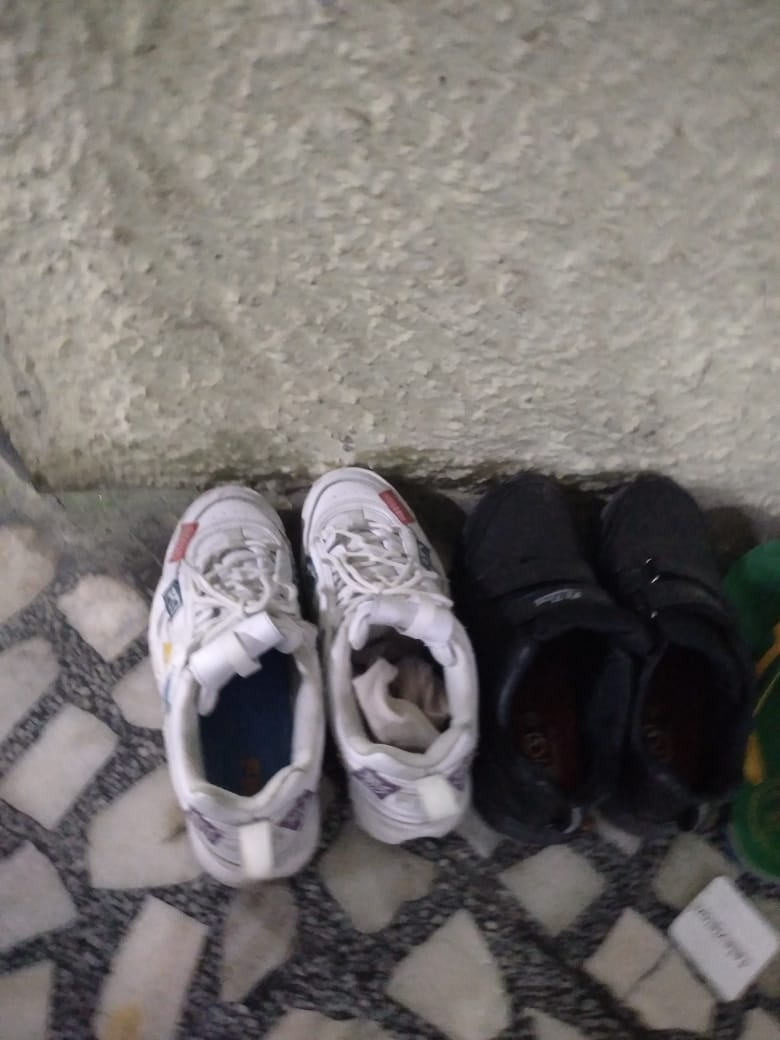Footwear: (132, 454, 335, 899), (470, 464, 628, 846)
